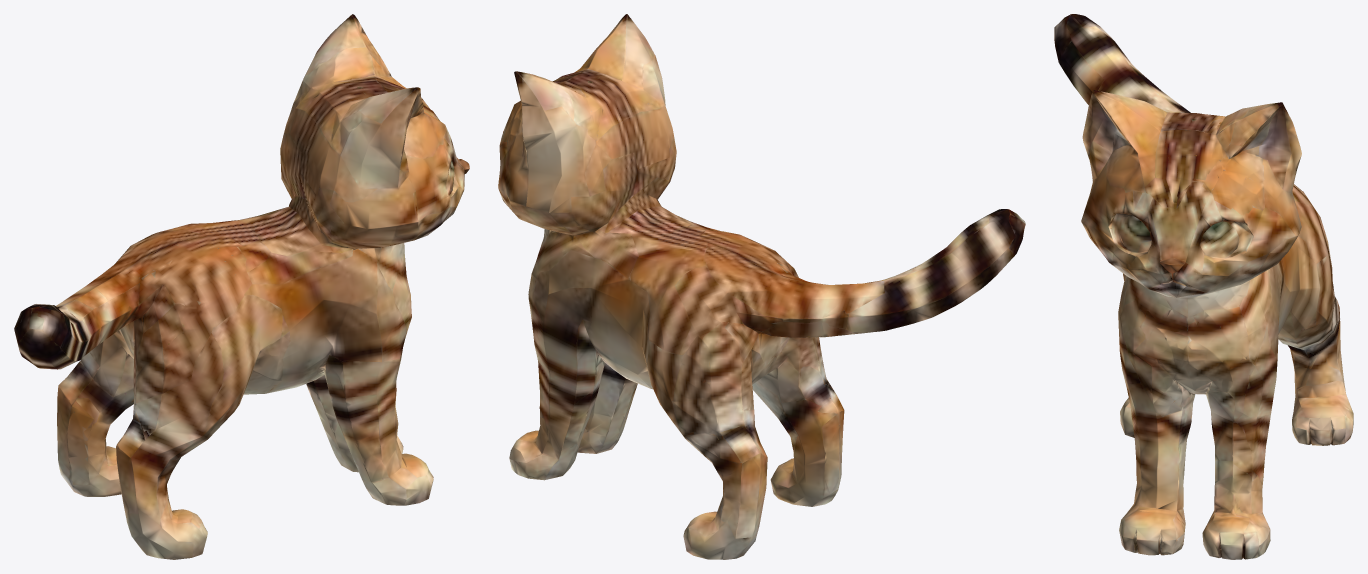
File: RUSTLEPAW-lo.glb
3 views of the same model, side by side, from view 1: azimuth 30°, elevation 25°; view 2: azimuth 150°, elevation 25°; view 3: azimuth 270°, elevation 25° (orthographic). The views are drawn at different scales.
Parts seen in each view (by area): view 1: fit; view 2: fit; view 3: fit.
Part boxes in pixels (left/top/right/bottom): fit: left=14, top=14, right=469, bottom=559; fit: left=498, top=14, right=1025, bottom=559; fit: left=1054, top=14, right=1353, bottom=559.
Size of the model in its own units: 1.19 by 0.9998 by 0.603.
1 material, 1 textured.
